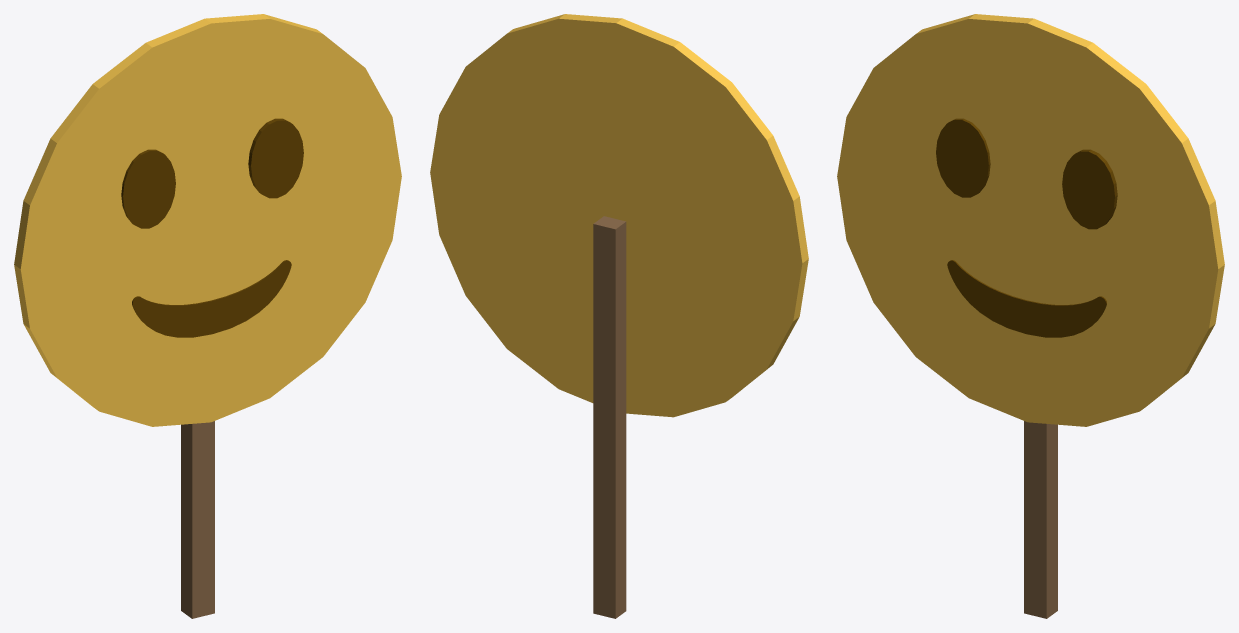
File: visage.glb
The picture shows the model from 3 angles, left to right: view 1: azimuth 30°, elevation 25°; view 2: azimuth 150°, elevation 25°; view 3: azimuth 330°, elevation 25°; orthographic projection. The views are drawn at different scales.
Bounding box in the file's own units: 1 × 1.5 × 0.097.
